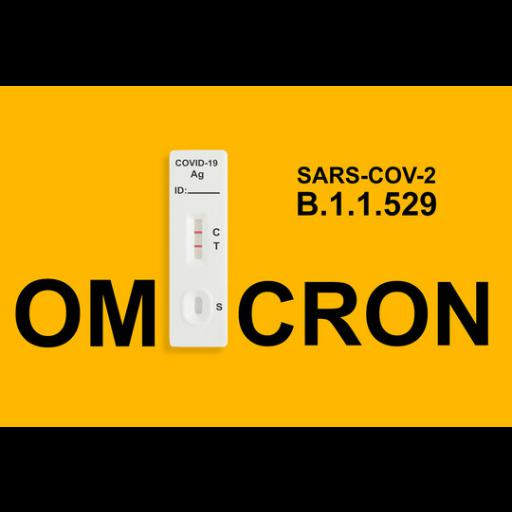Pos: (171, 148, 227, 344)
